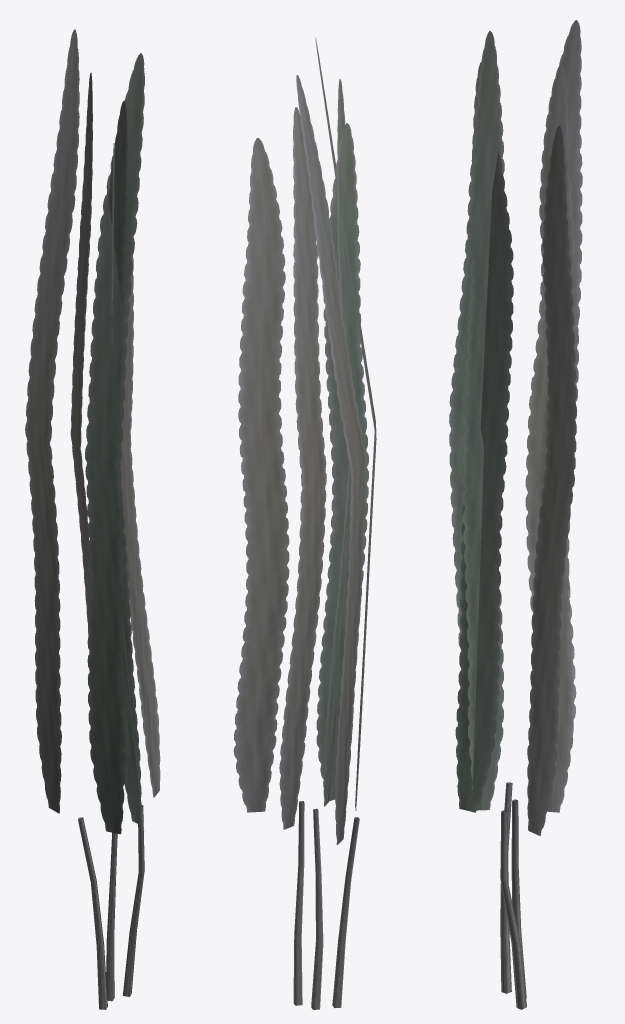
File: kelp_l2.gltf
3 renders of one model, left to right at view 1: azimuth 30°, elevation 25°; view 2: azimuth 150°, elevation 25°; view 3: azimuth 270°, elevation 25°, orthographic. The views are drawn at different scales.
Visible parts, largest first — view 1: kelp_l2; view 2: kelp_l2; view 3: kelp_l2.
Boxes of the visible parts, left/top/right/bottom form: kelp_l2: left=25, top=29, right=160, bottom=1009; kelp_l2: left=233, top=37, right=376, bottom=1009; kelp_l2: left=449, top=20, right=582, bottom=1009.
Bounding box in the file's own units: 0.976 × 6.12 × 1.08.
1 material, 1 textured.
